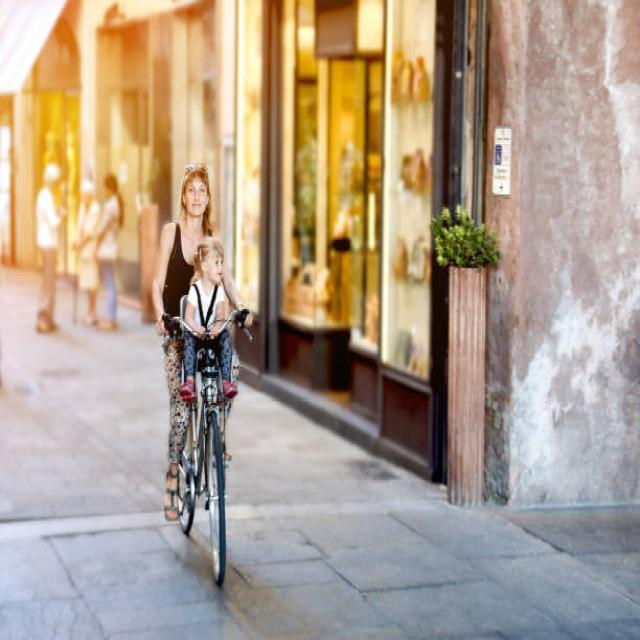bicycle: (152, 163, 252, 584)
